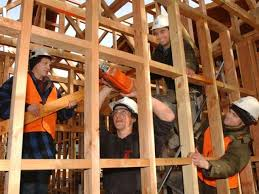hard hat: (233, 95, 259, 121), (109, 96, 138, 114), (28, 47, 54, 60), (152, 15, 169, 30)
